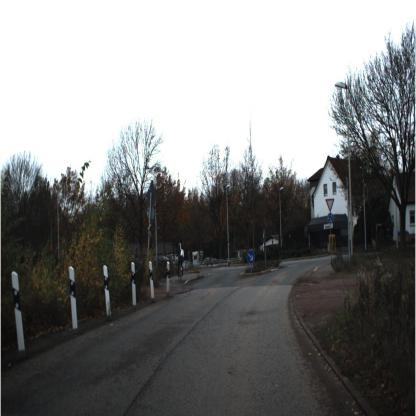mandatory: (244, 247, 257, 269), (326, 209, 334, 226)
other: (324, 192, 336, 214)
